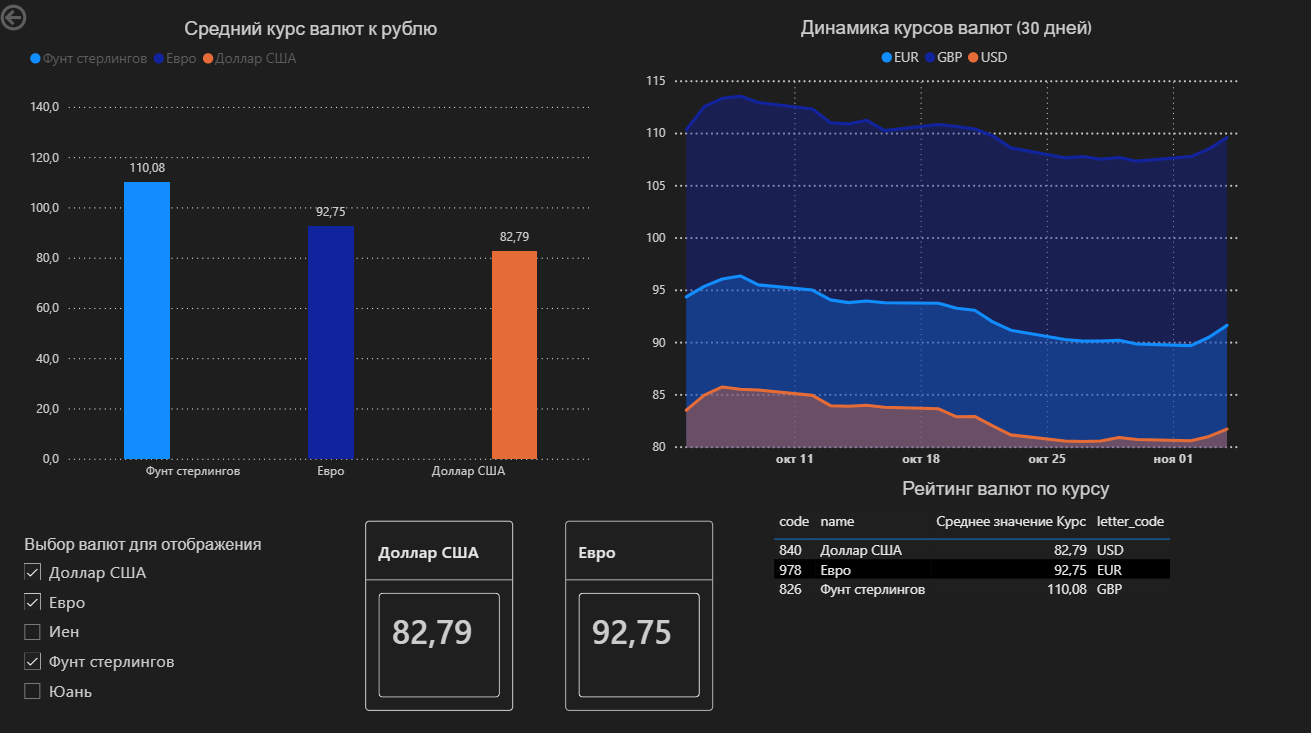

What the dashboard file says about the page in this screenshot:
{"tool":"powerbi","page":{"name":"Page 1","canvas":[1280,720],"ordinal":0},"visuals":[{"type":"clusteredColumnChart","title":"Средний курс валют к рублю","fields":{"Category":["Sheet2.name"],"Series":["Sheet2.name"],"Y":["Avg(Sheet2.Курс)"]},"box":[27,20,558,459],"z":0},{"type":"cardVisual","fields":{"Data":["Avg(Sheet2.Курс)"],"Rows":["Sheet2.name"]},"box":[354,484.4,154.7,235.4],"z":1000},{"type":"cardVisual","fields":{"Data":["Avg(Sheet2.Курс)"],"Rows":["Sheet2.name"]},"box":[548.6,484.4,154.7,235.4],"z":2000},{"type":"actionButton","box":[0,0,34,40],"z":3000},{"type":"tableEx","title":"Рейтинг валют по курсу","fields":{"Values":["Sheet2.code","Sheet2.name","Avg(Sheet2.Курс)","Sheet2.letter_code"]},"box":[750.6,467.8,462.9,235.8],"z":4000},{"type":"slicer","title":" ","fields":{"Values":["Sheet2.name"]},"box":[14.7,500.1,300.4,203.5],"z":5000},{"type":"areaChart","title":"Динамика курсов валют (30 дней)","fields":{"Y":["Avg(Sheet2.rate)"],"Series":["Sheet2.letter_code"],"Category":["Sheet2.date"]},"box":[626.3,19.6,596,448.2],"z":6000}]}

Visuals, with their boxes in screenshot pixels (x1, y1, x2, y2), scaled from the page's 1280x720 canvas onto the 1311x733 screenshot:
"Средний курс валют к рублю" clusteredColumnChart: select_region(28, 20, 599, 488)
cardVisual - Avg(Sheet2.Курс) x Sheet2.name: select_region(363, 493, 521, 732)
cardVisual - Avg(Sheet2.Курс) x Sheet2.name: select_region(562, 493, 720, 732)
actionButton: select_region(0, 0, 35, 41)
"Рейтинг валют по курсу" tableEx: select_region(769, 476, 1243, 716)
" " slicer: select_region(15, 509, 323, 716)
"Динамика курсов валют (30 дней)" areaChart: select_region(641, 20, 1252, 476)
